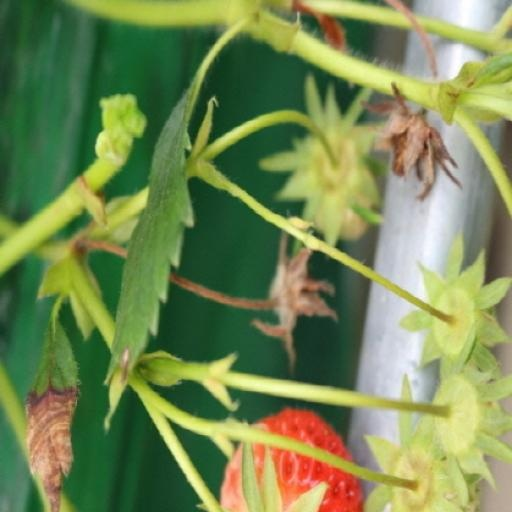Gray Mold: (242, 231, 337, 371), (360, 82, 466, 202)
